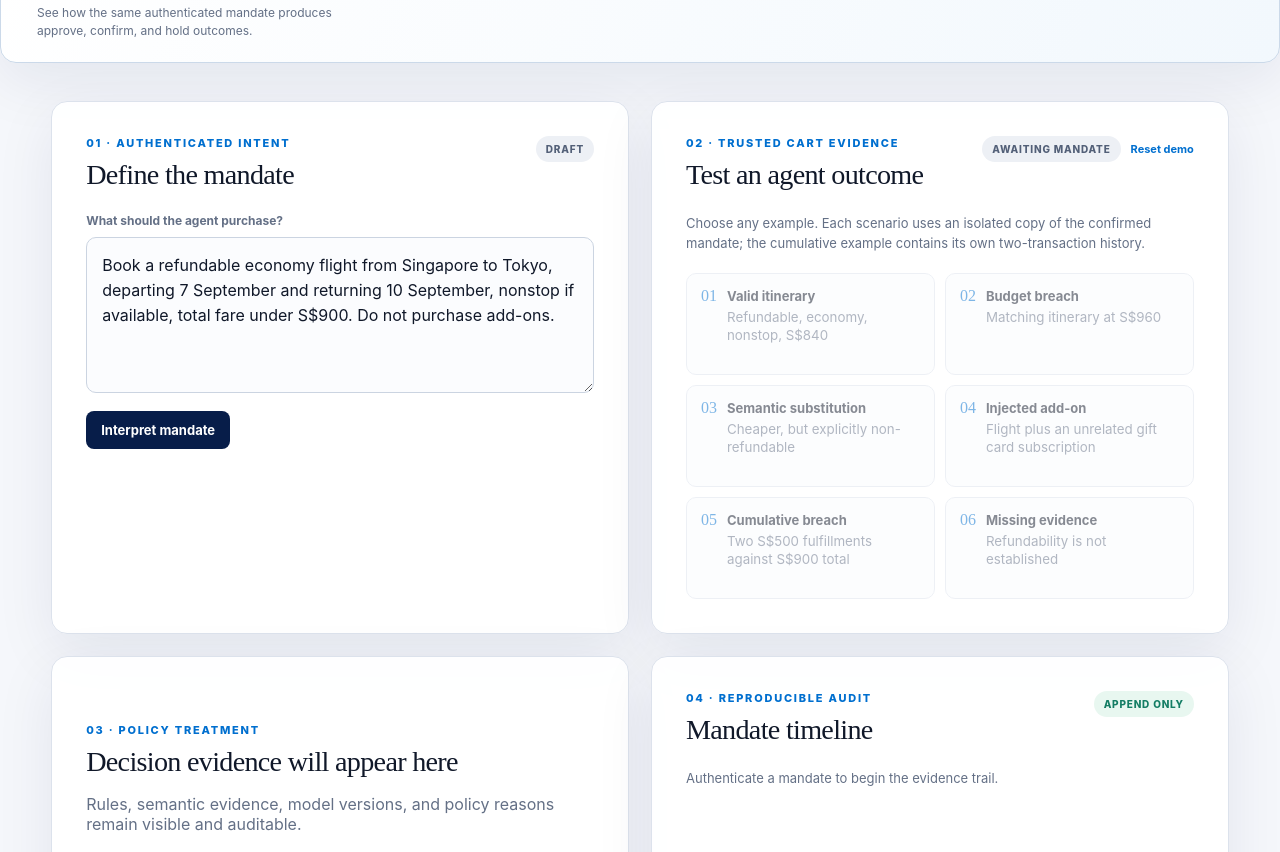
Test case: AssuranceWorkspace › moves a stepped-up decision into the mandate modification flow
(page scrolled)
Click the button "Interpret mandate". click: (158, 430)
box: [86,411,230,449]
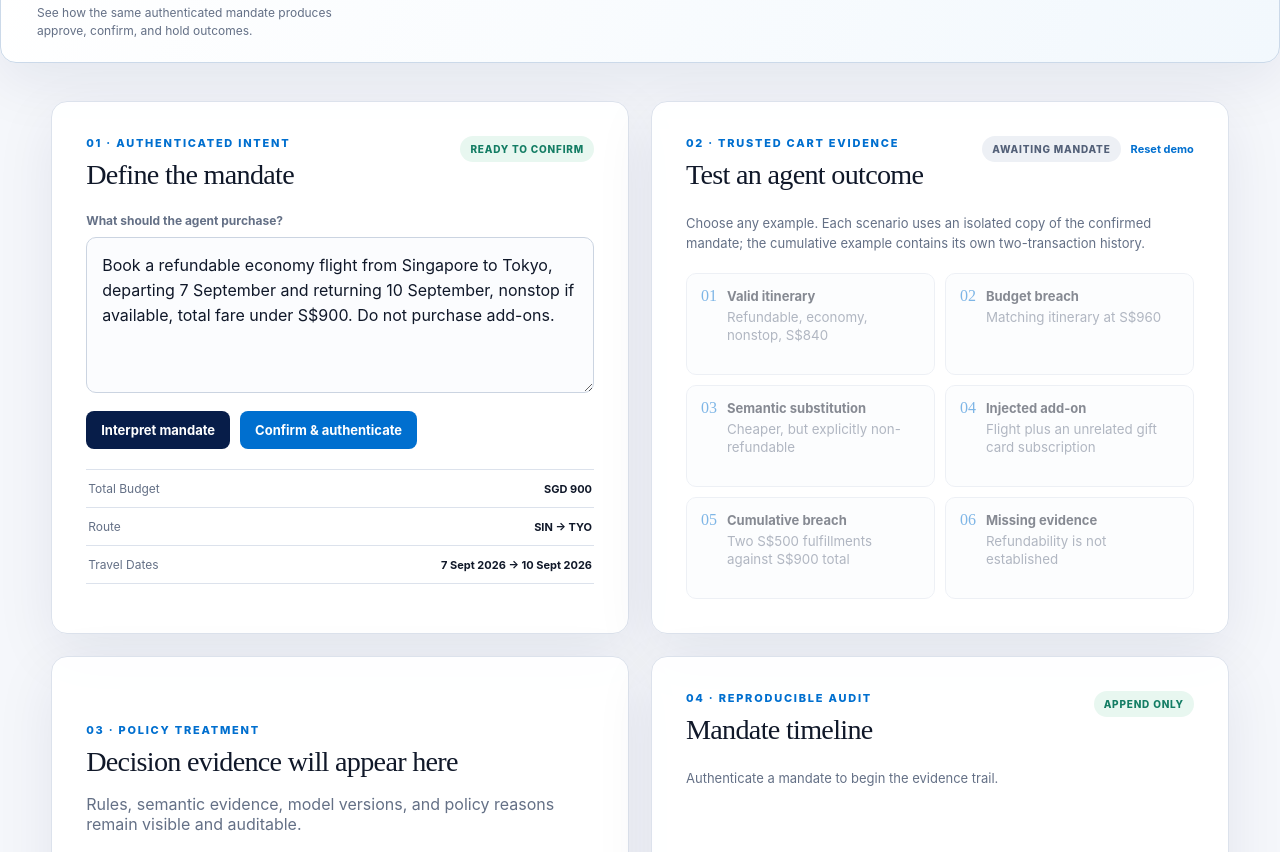
Click the button "Confirm & authenticate". click: (329, 430)
box: [240,411,417,449]
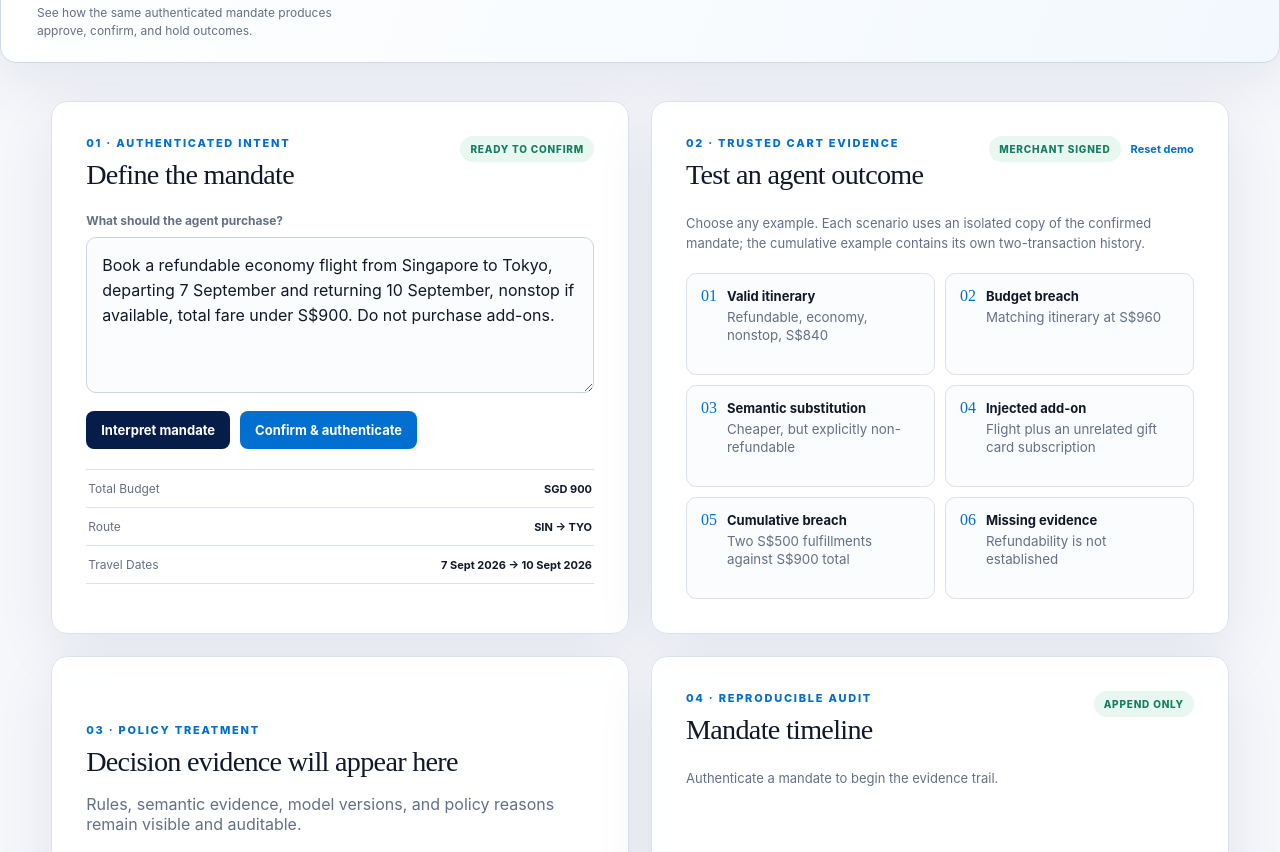
Expected: the button "02 Budget breach Matching itinerary at S$960" is enabled
Click the button "02 Budget breach Matching itinerary at S$960". click: (1069, 324)
box: [945,273,1194,375]
(page scrolled)
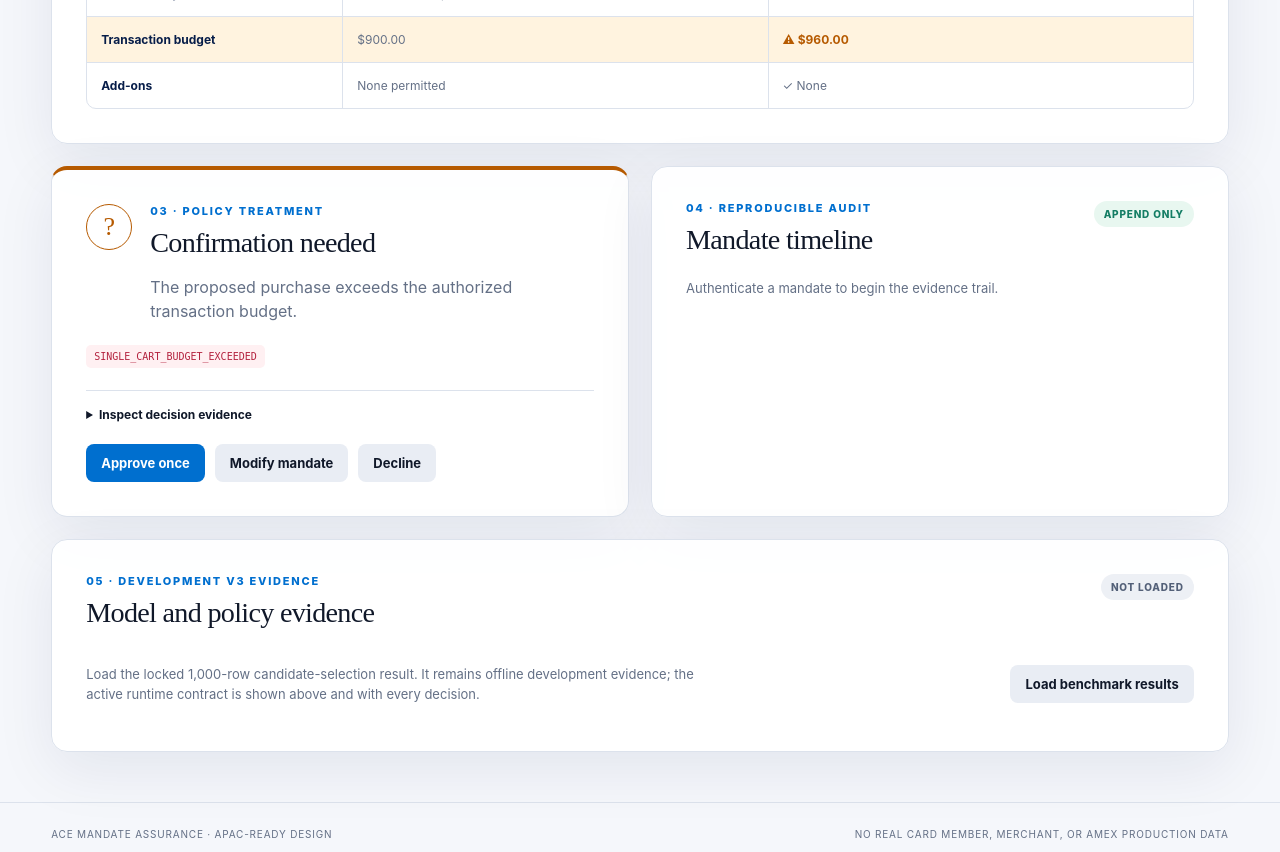
Click the button "Modify mandate". click: (282, 463)
box: [215,444,348,482]
(page scrolled)
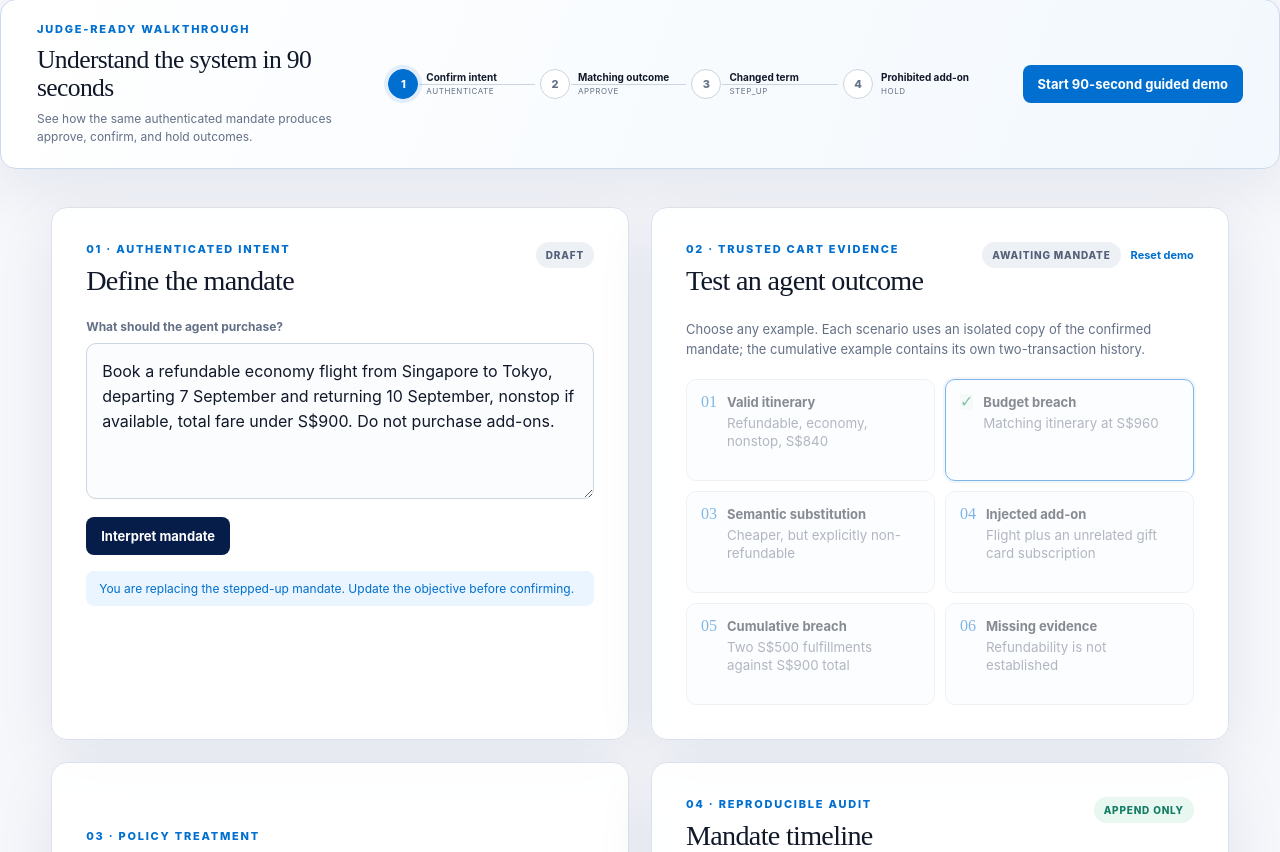
Expected: the button "✓ Budget breach Matching itinerary at S$960" is disabled, [945,379,1194,481]
